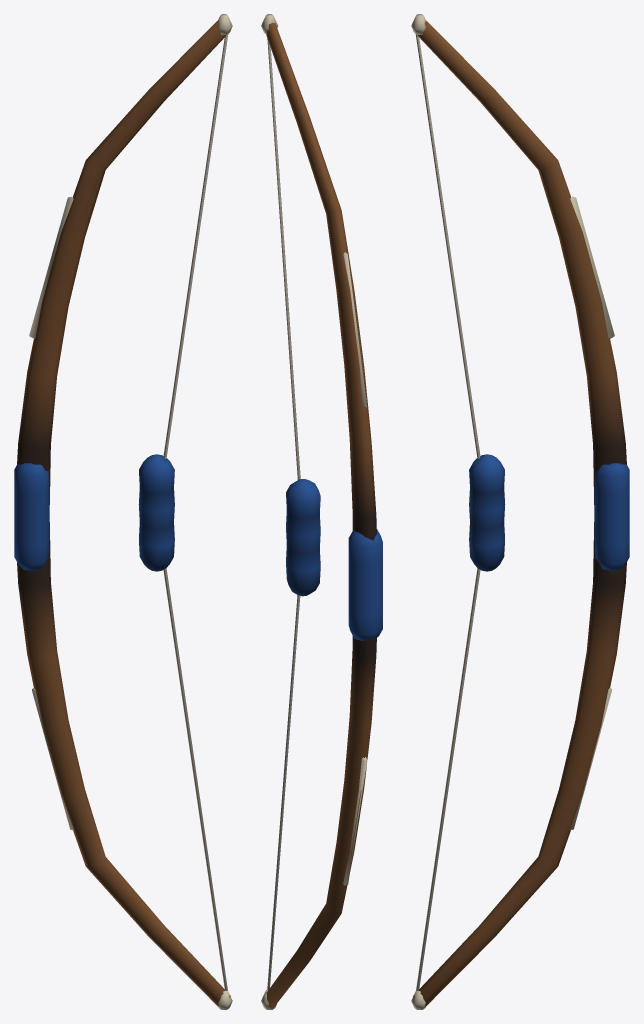
The model's file is bow.glb.
The picture shows the model from 3 angles, left to right: view 1: azimuth 90°, elevation 25°; view 2: azimuth 210°, elevation 25°; view 3: azimuth 270°, elevation 25°; orthographic projection.
Visible parts, largest first — view 1: bow; view 2: bow; view 3: bow.
Boxes of the visible parts, x1,y1,x2,y2 form: bow: (14,14,232,1009); bow: (261,14,382,1009); bow: (411,14,629,1009).
Size of the model in its own units: 0.0376 by 1.14 by 0.2275.
